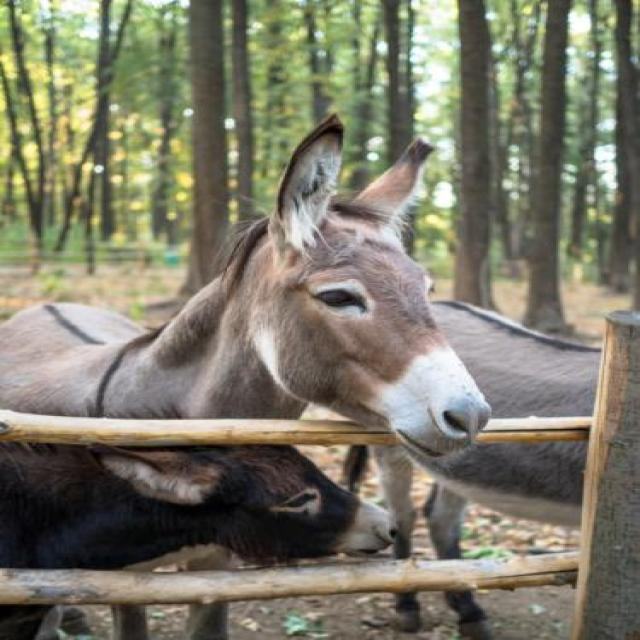Donkey: (0, 115, 490, 640), (342, 295, 640, 640), (0, 442, 397, 640)
